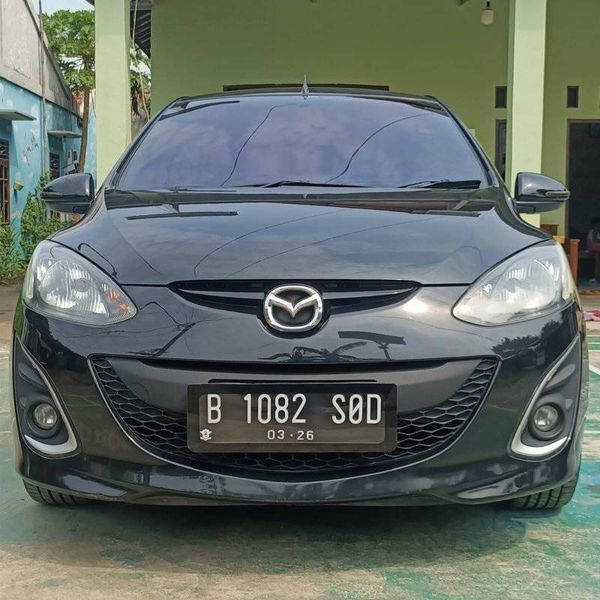plate: (192, 384, 391, 452)
